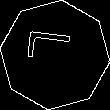L_E: (28, 36, 82, 74)
